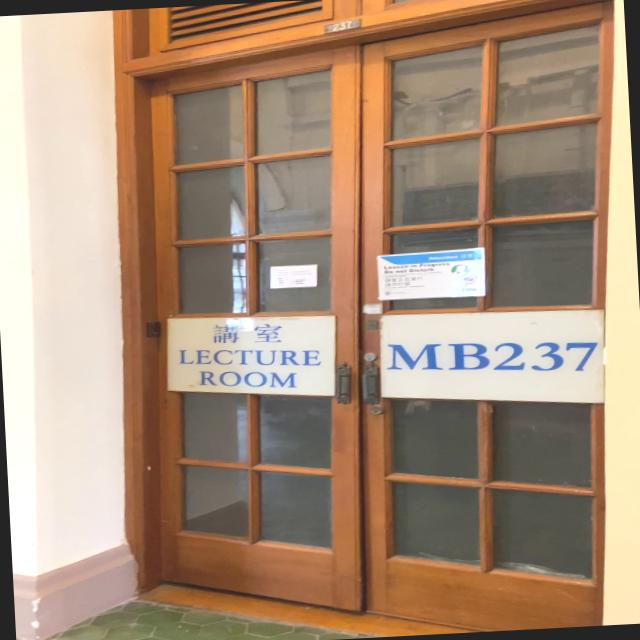room237: (314, 17, 368, 36)
room237Window: (388, 328, 604, 392)
